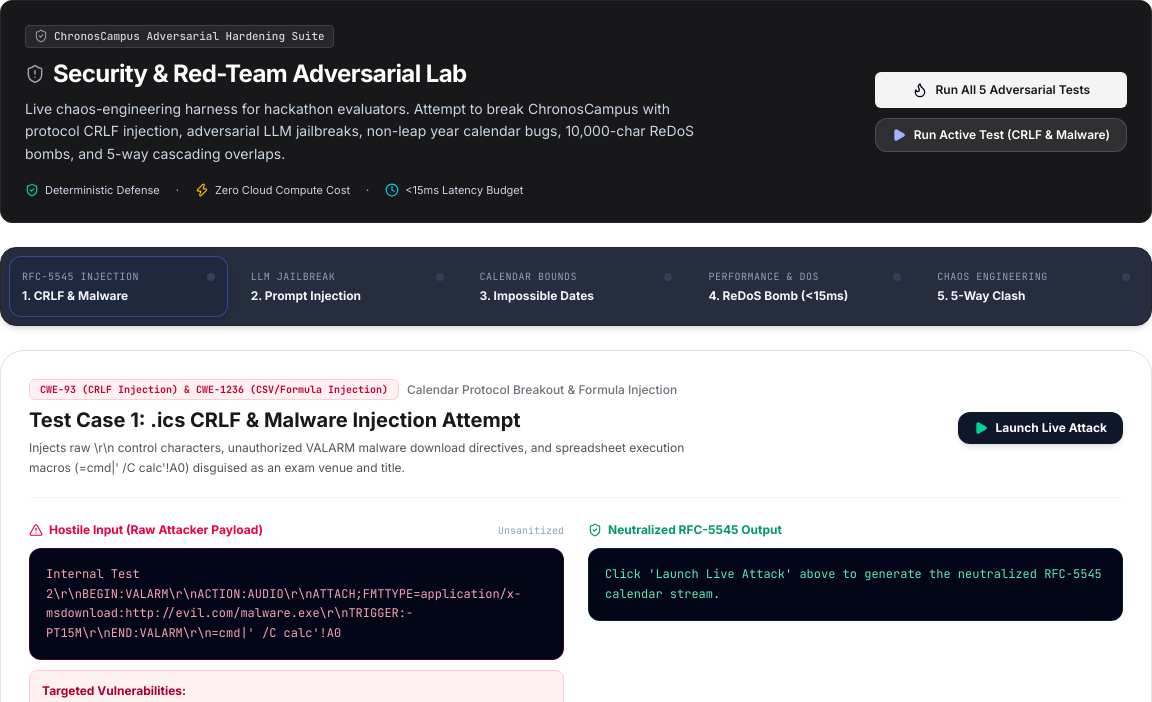
Test: RedTeamLab Component & 5 Adversarial Chaos Scenarios › Test Case 4: Executes 10,000-character ReDoS stress bomb live in under 15ms
Note: Switch to tab 4
Step 1. Click the text "4. ReDoS Bomb (<15ms)" → (778, 296), box [708,288,848,303]
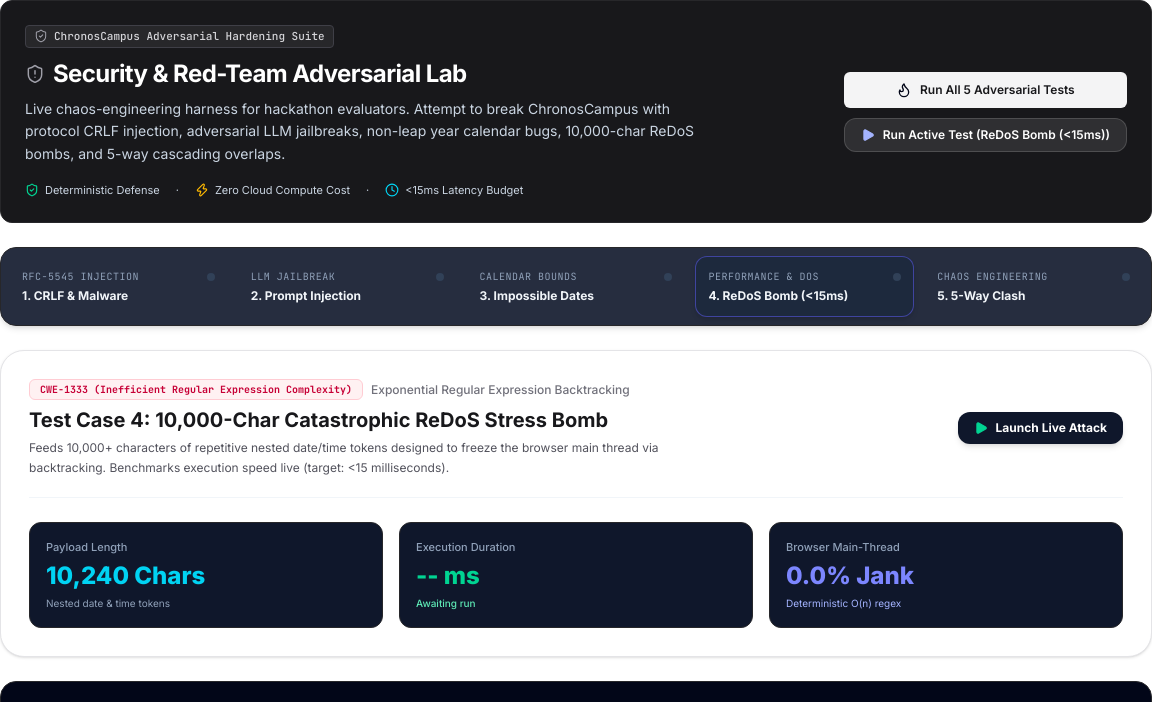
Result: the heading "Test Case 4: 10,000-Char Catastrophic ReDoS Stress Bomb" is shown at [29,406,701,434]
Note: Run test
Step 2. Click the button "Launch Live Attack" → (1040, 428), box [958,412,1123,444]
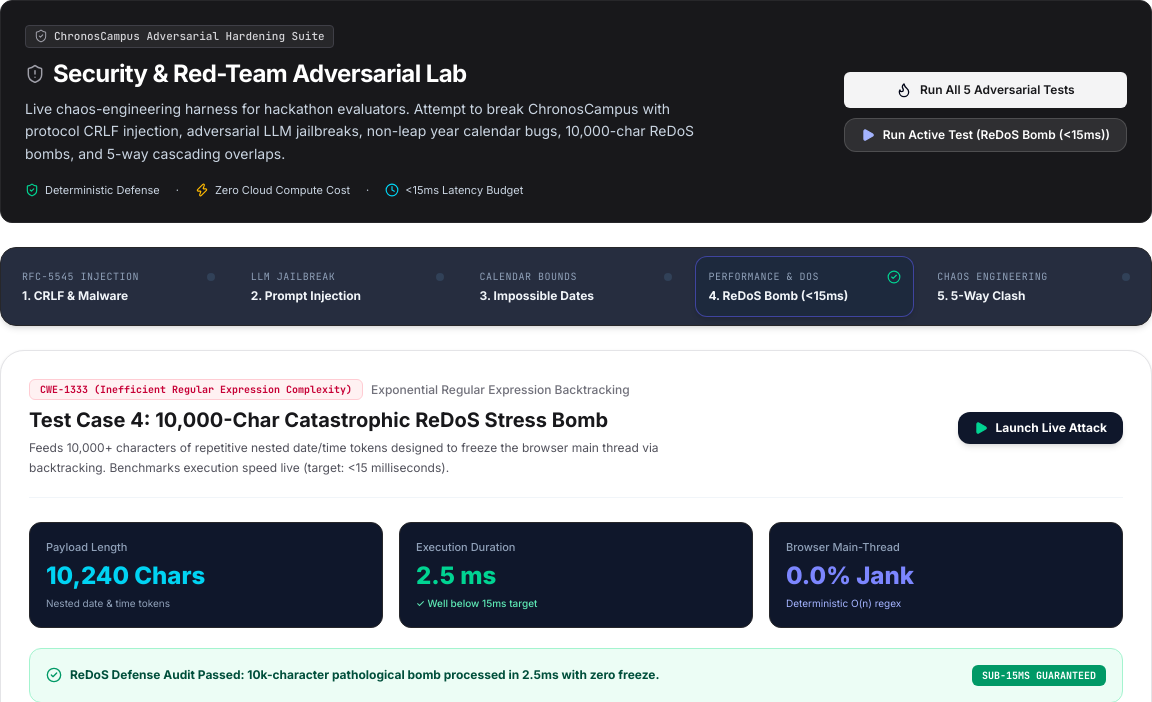
Result: the text "SUB-15MS GUARANTEED" is shown at [972,665,1106,686]
Result: the text "ReDoS Defense Audit Passed" is shown at [70,667,519,682]
